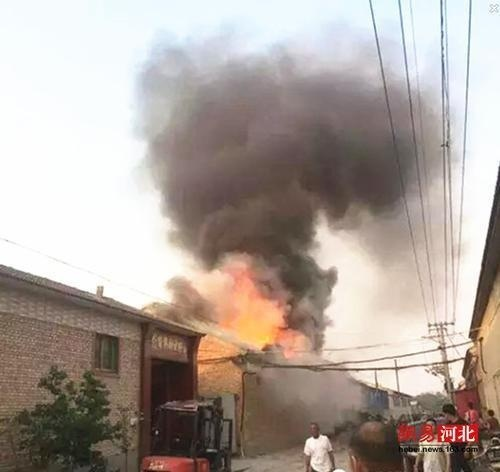fire: (222, 280, 284, 349)
